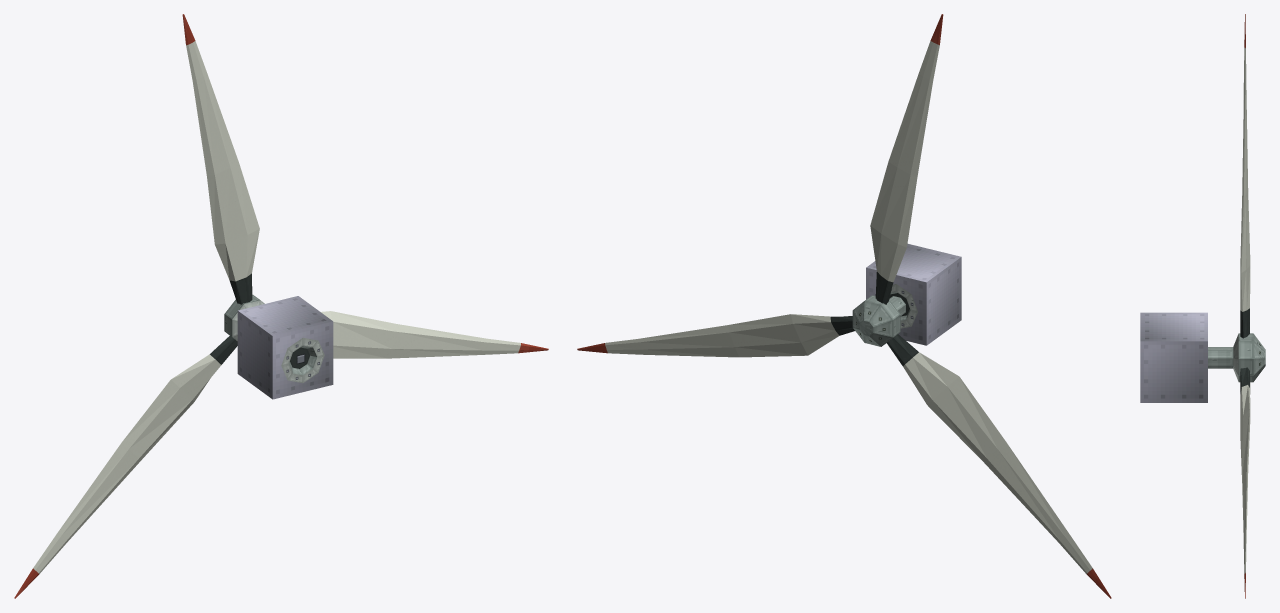
The model's file is wind_turbine_low_poly.obj.
3 views of the same model, side by side, from view 1: azimuth 30°, elevation 25°; view 2: azimuth 150°, elevation 25°; view 3: azimuth 270°, elevation 25° (orthographic). The views are drawn at different scales.
Visible parts, largest first — view 1: rotor_blade_1, head_housing, rotor_blade_2, rotor_blade_3, ru_output; view 2: rotor_blade_2, rotor_blade_3, rotor_blade_1, head_housing, rotor_hub; view 3: head_housing, rotor_blade_1, rotor_hub, rotor_blade_3.
Part boxes in pixels (x1,y1,x2,y2): rotor_blade_1: (182, 14, 259, 304); head_housing: (237, 296, 333, 399); rotor_blade_2: (14, 336, 237, 598); rotor_blade_3: (321, 311, 548, 358); ru_output: (281, 337, 324, 383); rotor_blade_2: (887, 334, 1111, 598); rotor_blade_3: (577, 314, 854, 357); rotor_blade_1: (870, 14, 943, 304); head_housing: (866, 243, 961, 345); rotor_hub: (852, 295, 905, 346); head_housing: (1140, 312, 1207, 402); rotor_blade_1: (1240, 14, 1250, 338); rotor_hub: (1208, 333, 1265, 382); rotor_blade_3: (1240, 367, 1250, 598).
Bounding box in the file's own units: 8.82 × 8.58 × 1.85.
1 material, 1 textured.
